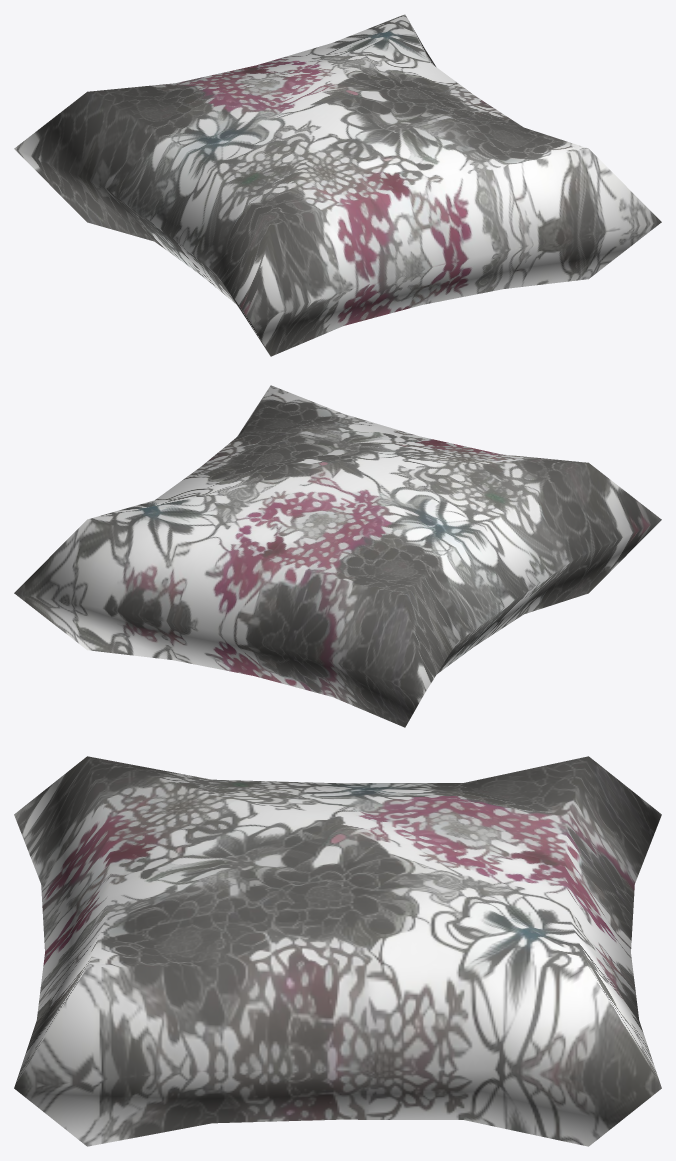
File: pillow4.fbx
The picture shows the model from 3 angles, top to bottom: view 1: azimuth 30°, elevation 25°; view 2: azimuth 150°, elevation 25°; view 3: azimuth 270°, elevation 25°; orthographic projection. The views are drawn at different scales.
Visible parts, largest first — view 1: Cube; view 2: Cube; view 3: Cube.
Part boxes in pixels (x1,y1,x2,y2): Cube: [14, 14, 661, 356]; Cube: [14, 385, 661, 727]; Cube: [14, 756, 661, 1146].
Bounding box in the file's own units: 766 × 310 × 766.
